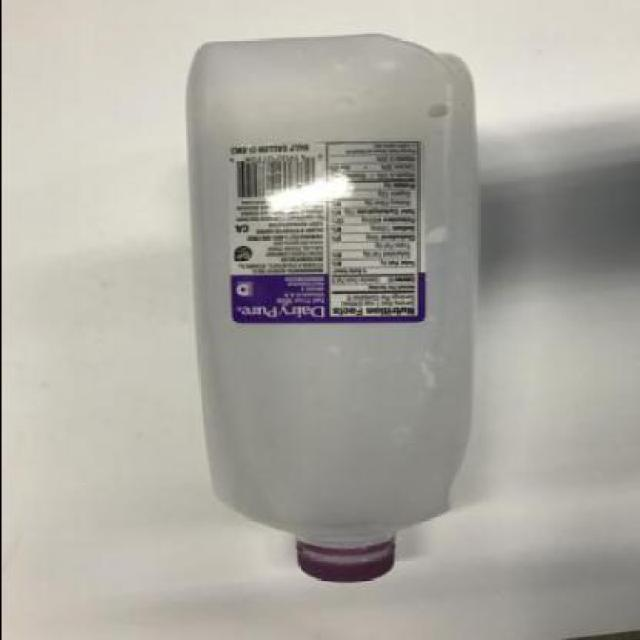PLASTIC: (181, 35, 477, 583), (288, 536, 395, 584)
